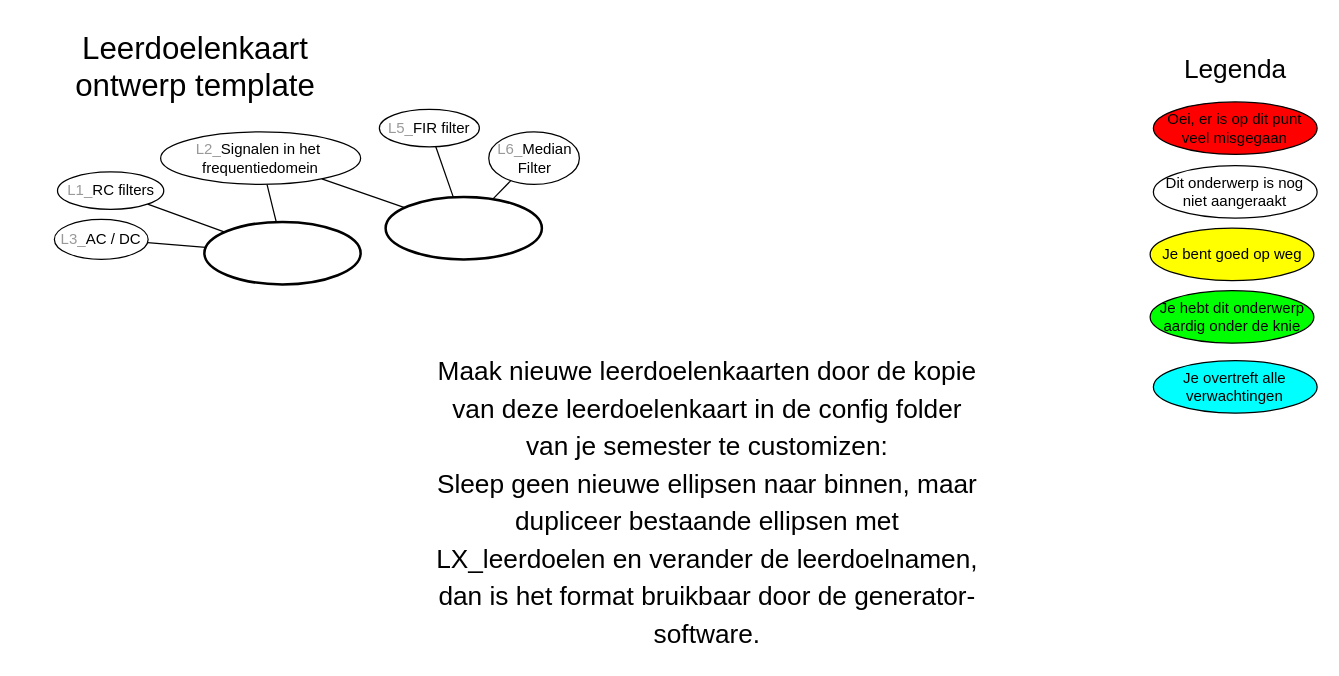
Some shapes in this 1339 by 676 pixel diagram are drawn without their labels. Here are the shapes that lost their labels. From the top down, the centre of each, then its label:
At point 463,227: "Digitale Signaalprocessing".
At point 281,252: "Analoge Signaalprocessing".
